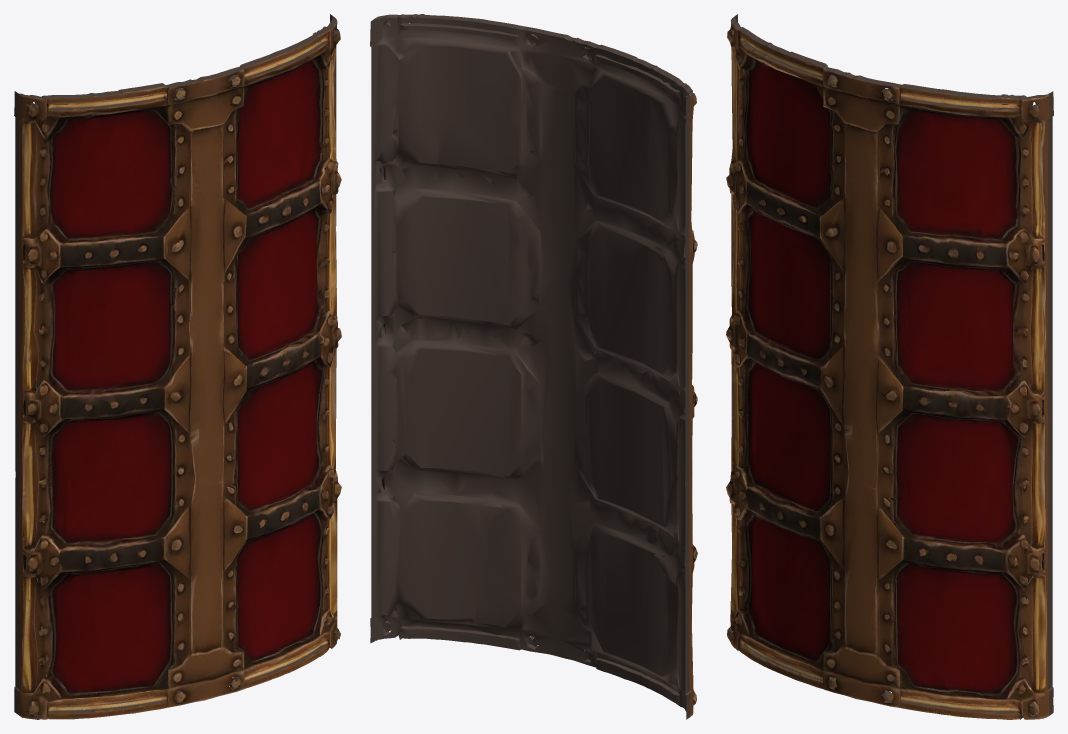
File: tower_shield.glb
The picture shows the model from 3 angles, left to right: view 1: azimuth 30°, elevation 25°; view 2: azimuth 150°, elevation 25°; view 3: azimuth 330°, elevation 25°; orthographic projection.
Visible parts, largest first — view 1: tower_shield; view 2: tower_shield; view 3: tower_shield.
Part boxes in pixels (x1=…): tower_shield: x1=14, y1=14, x2=341, y2=719; tower_shield: x1=370, y1=14, x2=697, y2=719; tower_shield: x1=726, y1=14, x2=1053, y2=719.
Bounding box in the file's own units: 0.528 × 0.9927 × 0.1051.
Materials: 2 (1 with a texture image).
